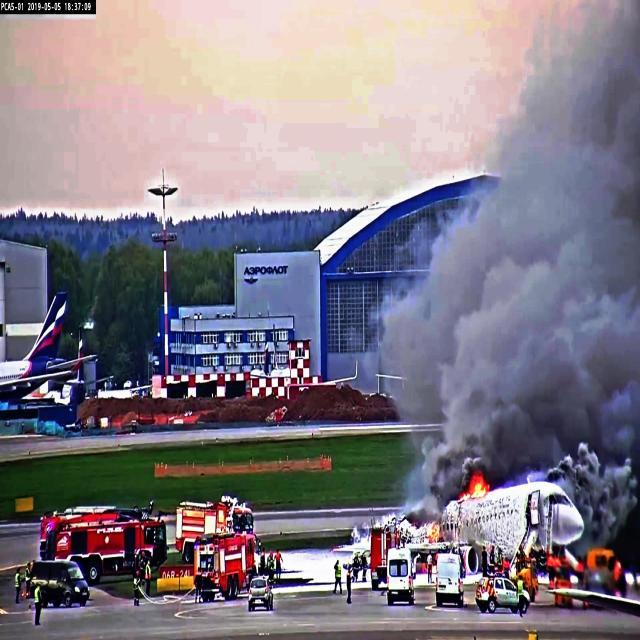Smoke: (559, 6, 640, 439), (452, 242, 640, 428), (572, 426, 638, 532)
